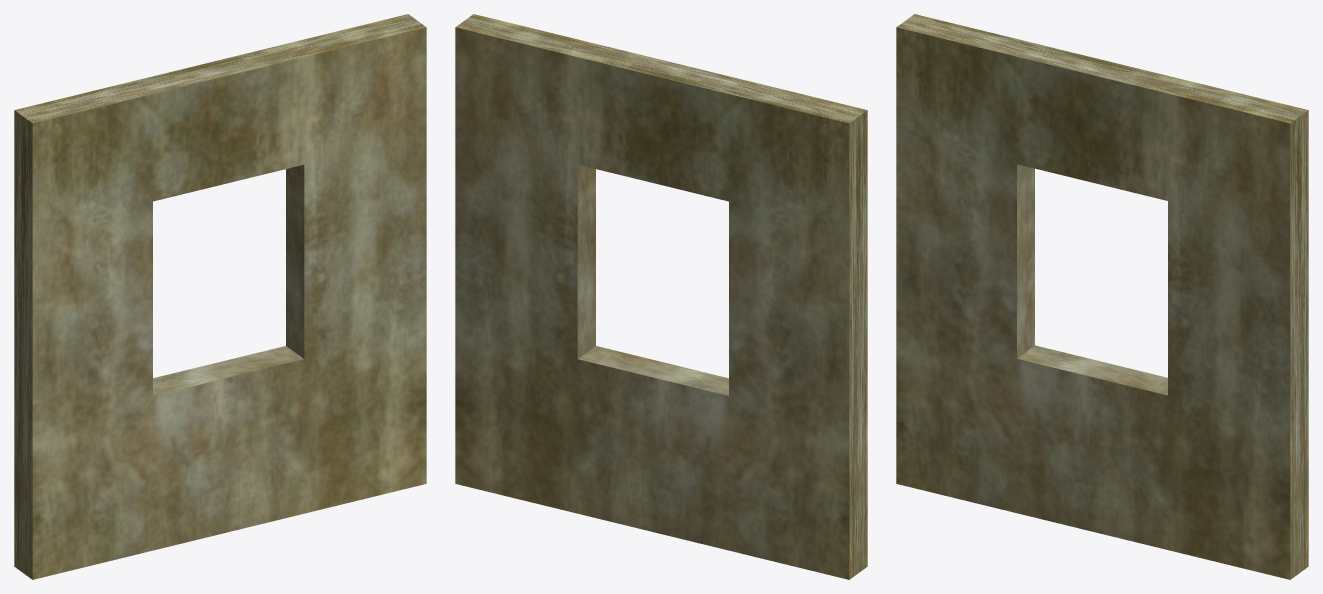
File: WallWindow.fbx
3 renders of one model, left to right at view 1: azimuth 30°, elevation 25°; view 2: azimuth 150°, elevation 25°; view 3: azimuth 330°, elevation 25°, orthographic.
Visible parts, largest first — view 1: WindowFrameWall; view 2: WindowFrameWall; view 3: WindowFrameWall.
Boxes of the visible parts, bbox=[...] form: WindowFrameWall: bbox=[14, 14, 426, 579]; WindowFrameWall: bbox=[455, 14, 867, 579]; WindowFrameWall: bbox=[896, 14, 1308, 579].
Bounding box in the file's own units: 250 × 277 × 20.
